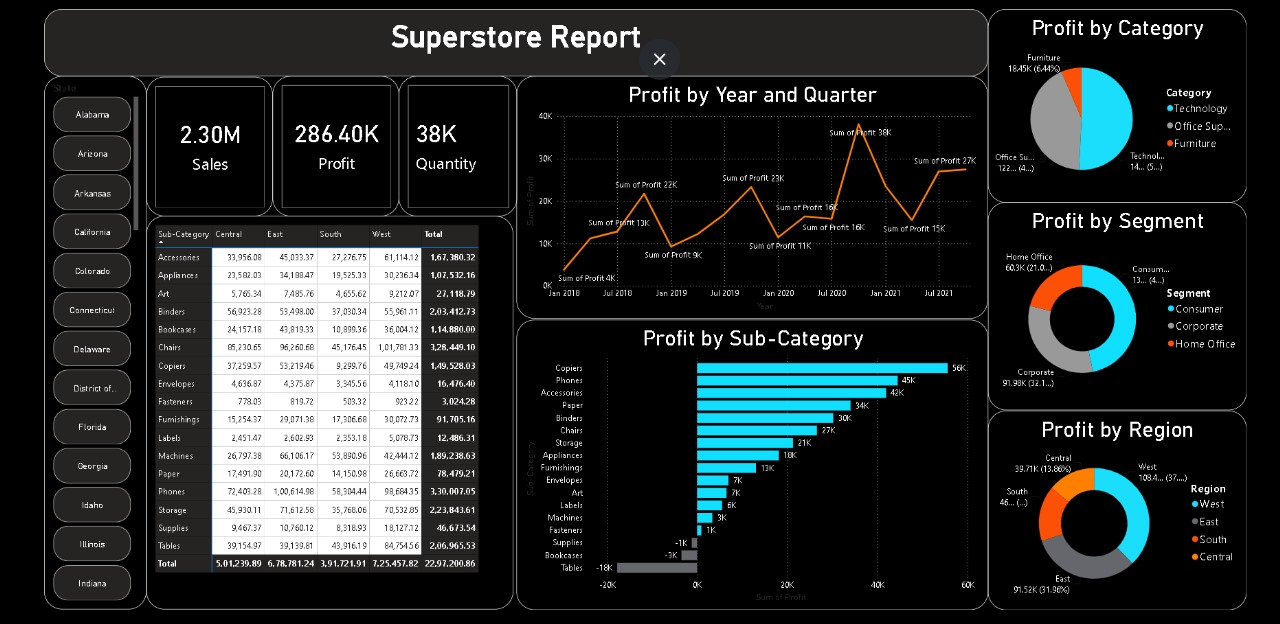

The page's visual inventory and layout, read from the dashboard file:
{"tool":"powerbi","page":{"name":"Page 1","canvas":[2000,1000],"ordinal":0},"visuals":[{"type":"donutChart","title":"Profit by Region","fields":{"Category":["Orders.Region"],"Y":["Sum(Orders.Profit)"]},"box":[1570,668,430,332],"z":0},{"type":"donutChart","title":"Profit by Segment","fields":{"Category":["Orders.Segment"],"Y":["Sum(Orders.Profit)"]},"box":[1570,322,430,346],"z":1000},{"type":"pieChart","title":"Profit by Category","fields":{"Category":["Orders.Category"],"Y":["Sum(Orders.Profit)"]},"box":[1570,0,430,322],"z":2000},{"type":"textbox","box":[0,0,1570,111.7],"z":3000},{"type":"clusteredBarChart","title":"Profit by Sub-Category","fields":{"Category":["Orders.Sub-Category"],"Y":["Sum(Orders.Profit)"]},"box":[785,516.7,785,483.3],"z":4000},{"type":"lineChart","title":"Profit by Year and Quarter","fields":{"Category":["Orders.Order Date.Variation.Date Hierarchy.Year","Orders.Order Date.Variation.Date Hierarchy.Quarter","Orders.Order Date.Variation.Date Hierarchy.Month","Orders.Order Date.Variation.Date Hierarchy.Day"],"Y":["Sum(Orders.Profit)"]},"box":[786,112,784,404],"z":5000},{"type":"pivotTable","fields":{"Rows":["Orders.Sub-Category"],"Columns":["Orders.Region"],"Values":["Sum(Orders.Sales)"]},"box":[170,345,610,655],"z":6000},{"type":"advancedSlicerVisual","fields":{"Values":["Orders.State"]},"box":[0,112,170,888],"z":7000},{"type":"cardVisual","title":"Profit","fields":{"Data":["Sum(Orders.Profit)"]},"box":[380,111.7,210,233.3],"z":8000},{"type":"cardVisual","fields":{"Data":["Sum(Orders.Quantity)"]},"box":[590,111.7,196.7,233.3],"z":9000},{"type":"cardVisual","fields":{"Data":["Sum(Orders.Sales)"]},"box":[170,113.3,210,231.7],"z":10000}]}

Visuals, with their boxes in screenshot pixels (x1, y1, x2, y2), scaled from the page's 2000x1000 canvas onto the 1280x624 screenshot:
"Profit by Region" donutChart: (1005,417,1279,623)
"Profit by Segment" donutChart: (1005,201,1279,417)
"Profit by Category" pieChart: (1005,0,1279,201)
textbox: (0,0,1005,70)
"Profit by Sub-Category" clusteredBarChart: (502,322,1005,623)
"Profit by Year and Quarter" lineChart: (503,70,1005,322)
pivotTable - Orders.Sub-Category x Orders.Region: (109,215,499,623)
advancedSlicerVisual - Orders.State: (0,70,109,623)
"Profit" cardVisual: (243,70,378,215)
cardVisual - Sum(Orders.Quantity): (378,70,503,215)
cardVisual - Sum(Orders.Sales): (109,71,243,215)
